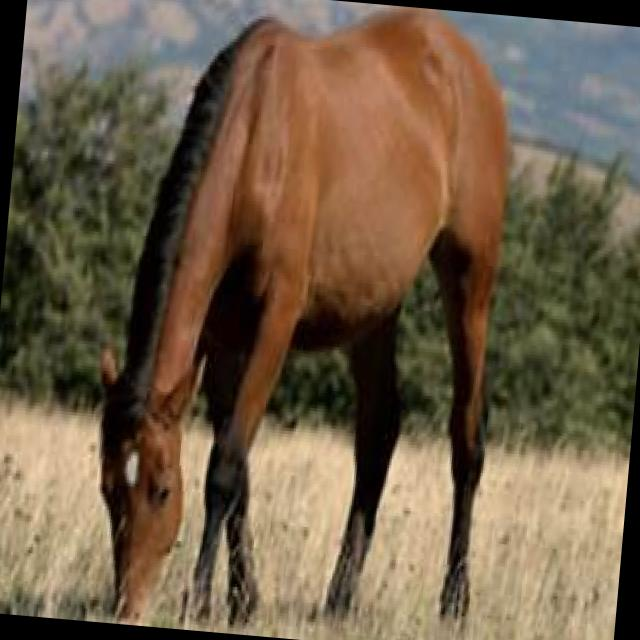animal: (75, 0, 524, 640)
